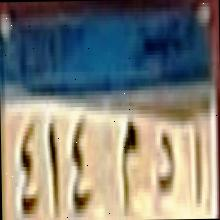1: (42, 119, 63, 217)
4: (66, 107, 94, 216), (14, 120, 40, 220)
alif: (186, 111, 208, 204)
daal: (152, 127, 178, 205)
meem: (113, 116, 142, 207)
